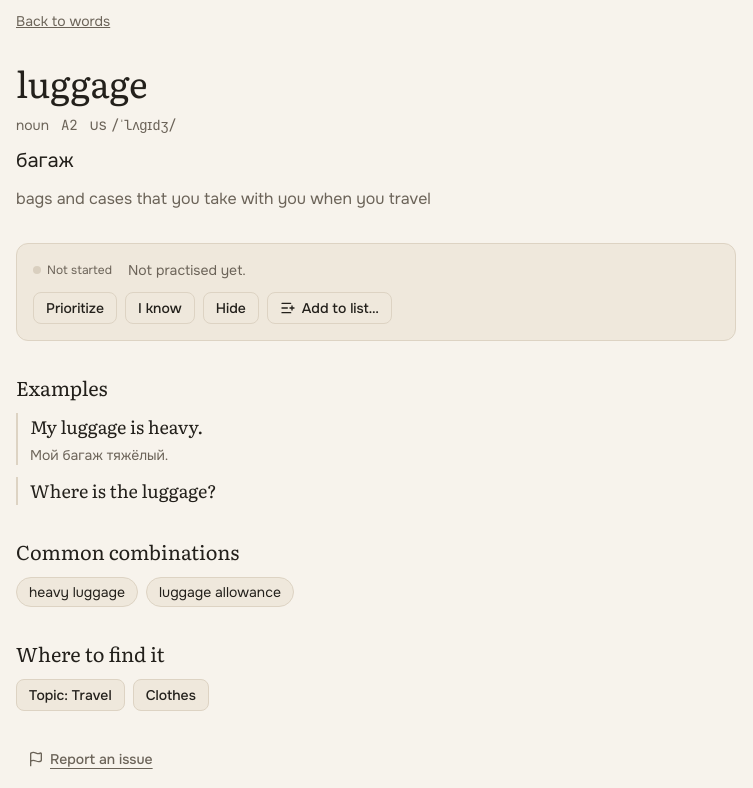
Test: the word page (B6.8) › a refused change goes back, says why, and Retry sends it again
The width and height of the screenshot is (753, 788).
Click the button "Hide" at coordinates (231, 308), box [203,292,259,324]
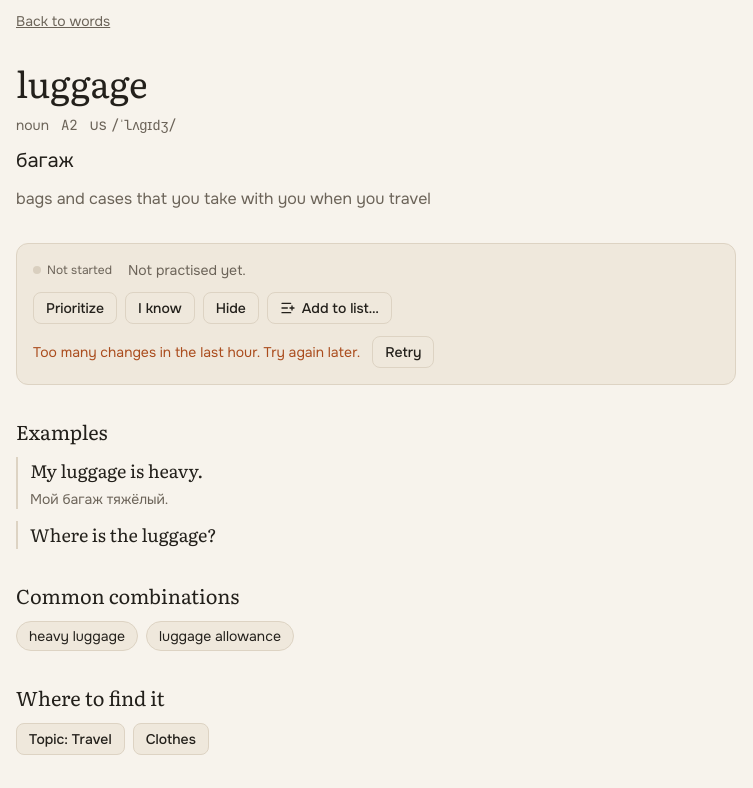
Now the message shows "Too many changes in the last hour. Try again later.", box [33,343,360,361]
Click the button "Retry" at coordinates (403, 352), box [372,336,434,368]
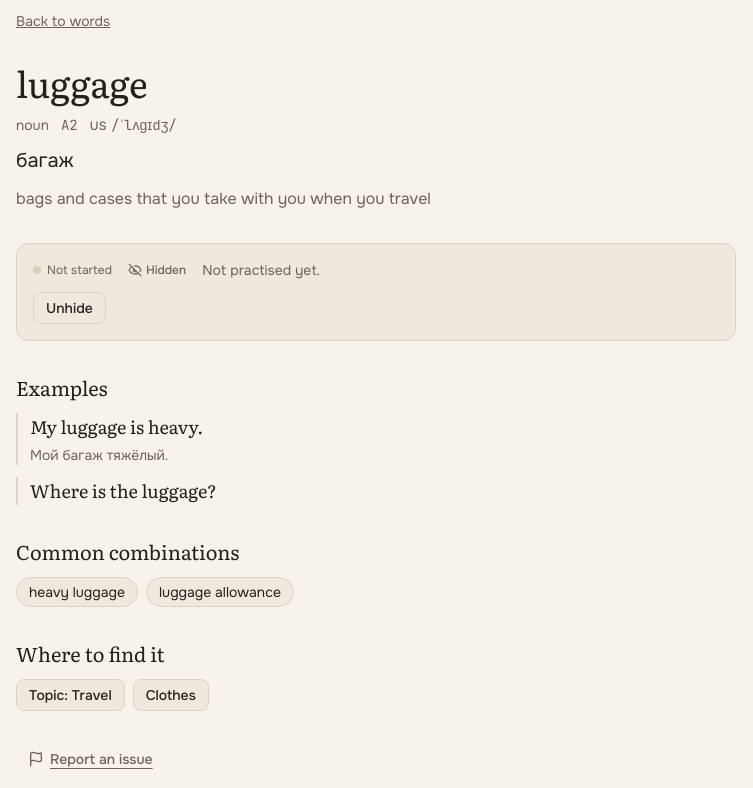
Now the element showing "Not started Hidden Not practised yet. Unhide" has attribute data-preference="HIDDEN", box [16,243,736,341]
